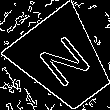N_SE: (31, 29, 96, 94)
